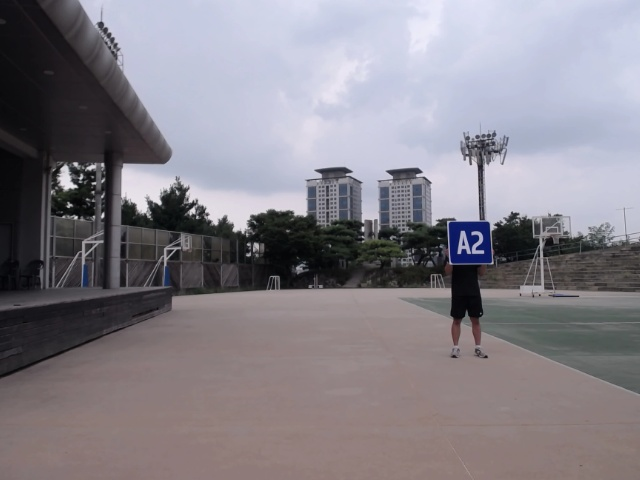delivery_a2: (448, 221, 493, 264)
